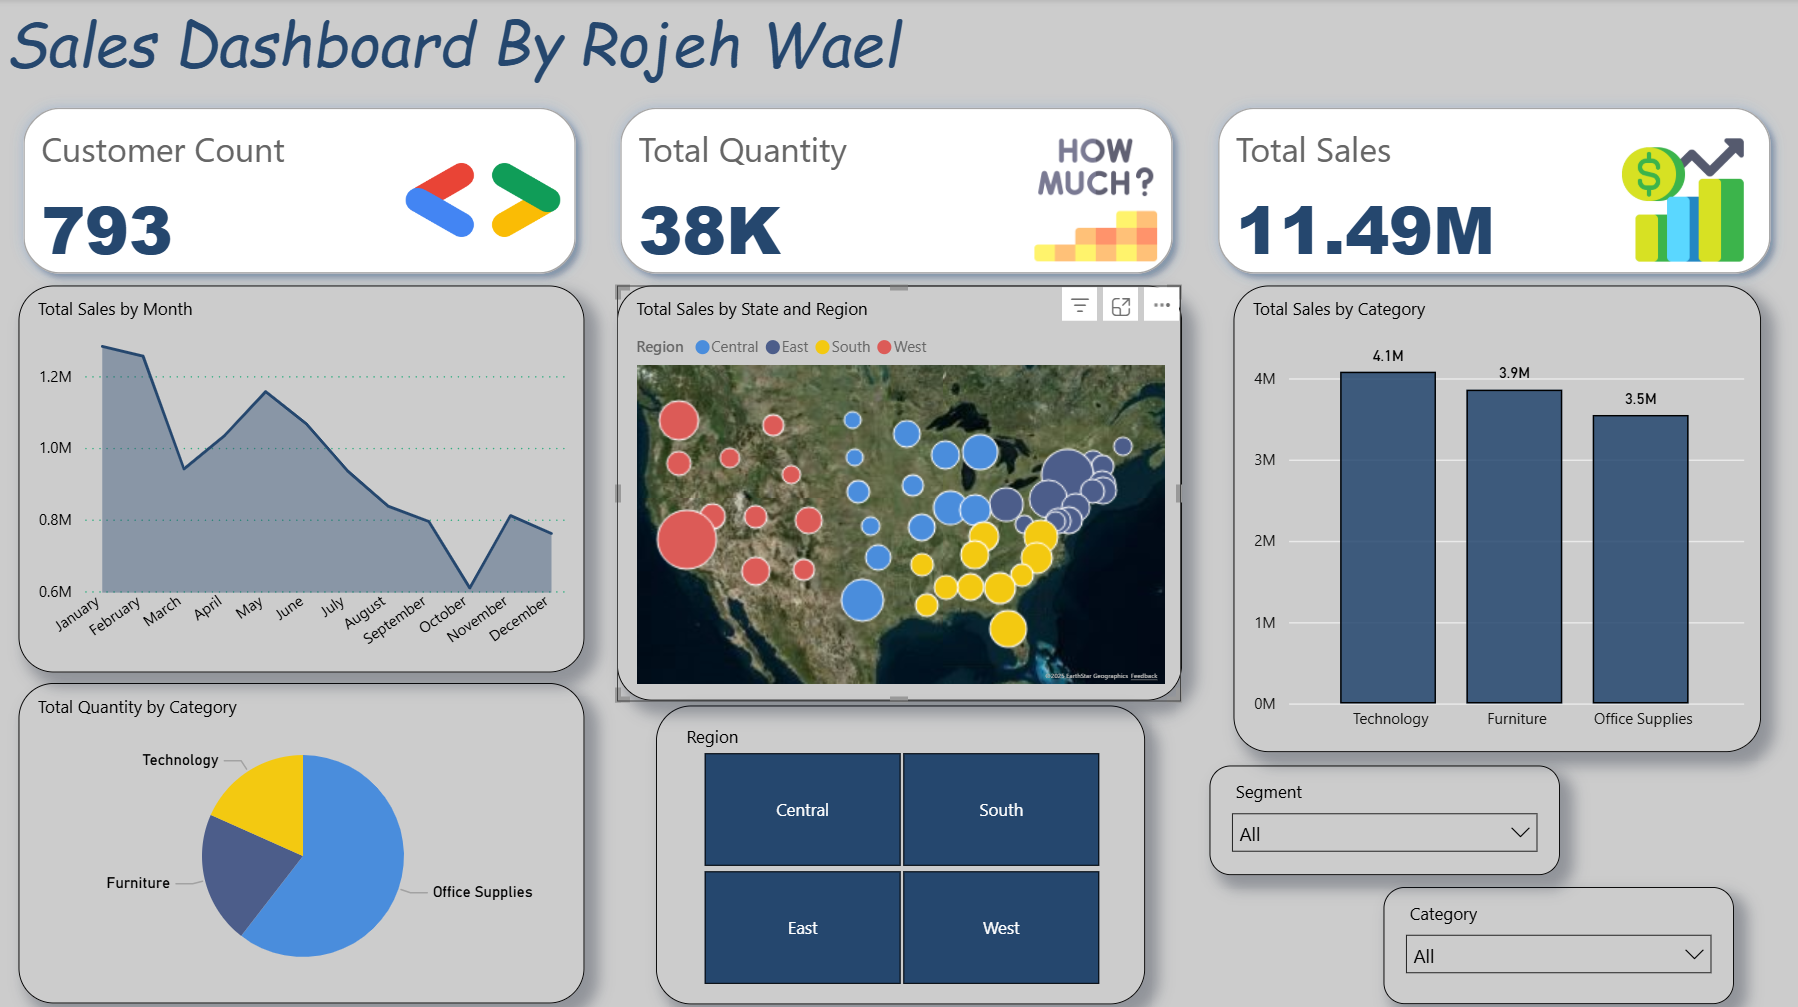

This screenshot's page, from the dashboard's own definition file:
{"tool":"powerbi","page":{"name":"Page 1","canvas":[1280,720],"ordinal":0},"visuals":[{"type":"cardVisual","title":"Sales Dashboard By Rojeh Wael","fields":{"Data":["DB.Customer Count","Sales.Total Quantity","Sales.Total Sales"]},"box":[0,0,1279.8,212.4],"z":0},{"type":"columnChart","fields":{"Category":["Product.Category"],"Y":["Sales.Total Sales"]},"box":[878.1,204,375.4,332.3],"z":1000},{"type":"lineChart","fields":{"Category":["Orders.YM.Variation.Date Hierarchy.Month"],"Y":["Sales.Total Sales"]},"box":[13.7,204,402.8,275.5],"z":2000},{"type":"map","fields":{"Size":["Sales.Total Sales"],"Category":["DB.State"],"Series":["DB.Region"]},"box":[439.6,204,401.7,295.5],"z":3000},{"type":"pieChart","fields":{"Category":["Product.Category"],"Y":["Sales.Total Quantity"]},"box":[13.7,486.9,402.8,228.2],"z":4000},{"type":"slicer","fields":{"Values":["DB.Region"]},"box":[466.9,502.7,348.1,212.4],"z":5000},{"type":"slicer","fields":{"Values":["Product.Category"]},"box":[985.4,632,249.2,83.1],"z":6000},{"type":"slicer","fields":{"Values":["DB.Segment"]},"box":[861.3,545.8,249.2,77.8],"z":7000}]}

Visuals, with their boxes in screenshot pixels (x1, y1, x2, y2), scaled from the page's 1280x720 canvas onto the 1798x1007 screenshot:
"Sales Dashboard By Rojeh Wael" cardVisual: BBox(0, 0, 1797, 297)
columnChart - Product.Category x Sales.Total Sales: BBox(1233, 285, 1761, 750)
lineChart - Orders.YM.Variation.Date Hierarchy.Month x Sales.Total Sales: BBox(19, 285, 585, 671)
map - Sales.Total Sales x DB.State: BBox(618, 285, 1182, 699)
pieChart - Product.Category x Sales.Total Quantity: BBox(19, 681, 585, 1000)
slicer - DB.Region: BBox(656, 703, 1145, 1000)
slicer - Product.Category: BBox(1384, 884, 1734, 1000)
slicer - DB.Segment: BBox(1210, 763, 1560, 872)
